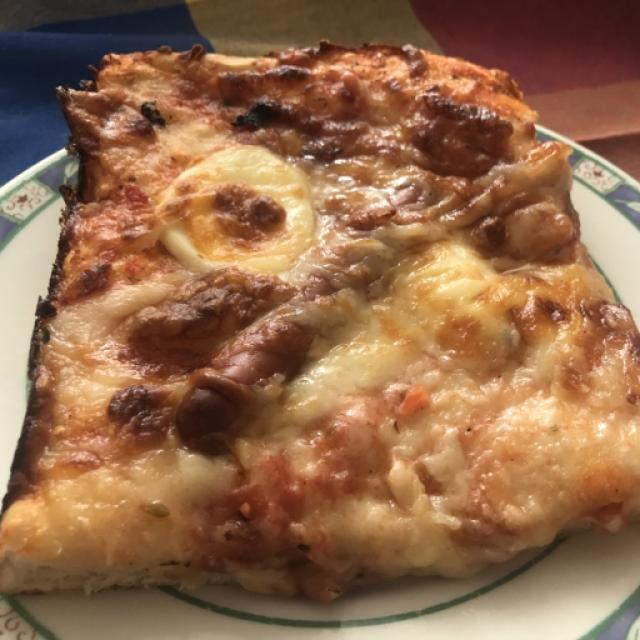pizza: (2, 44, 640, 600)
